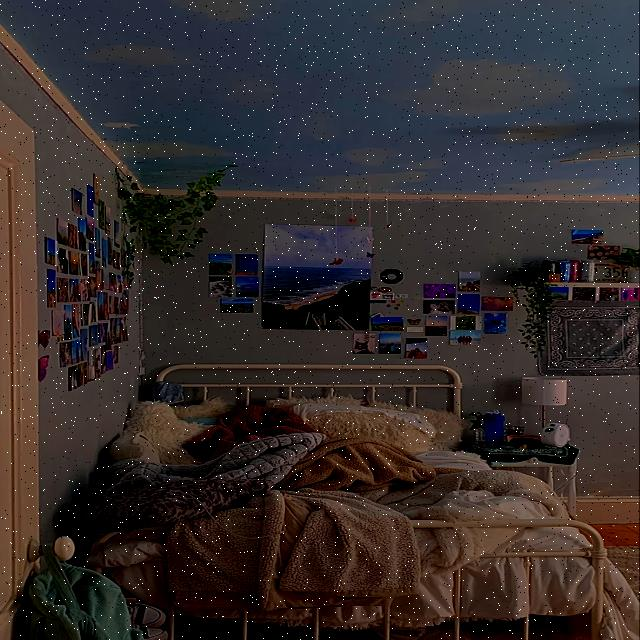bed: (137, 358, 521, 629)
